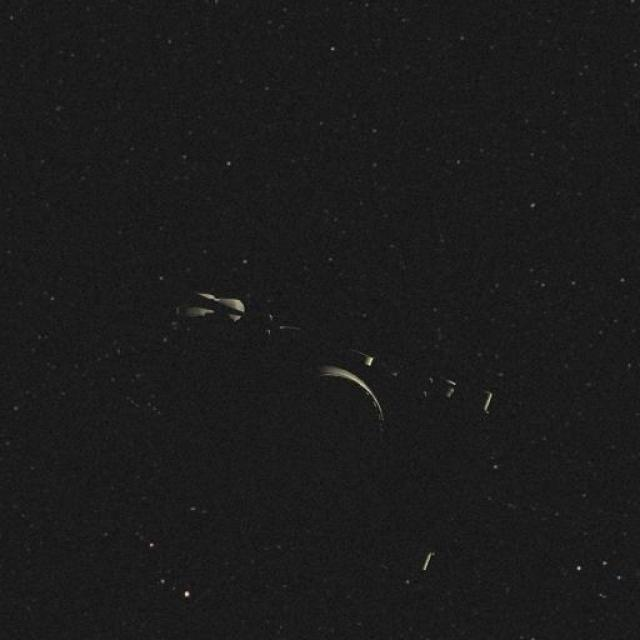proba_3_csc: (157, 265, 498, 580)
